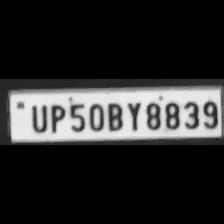0: (86, 100, 104, 132)
3: (182, 98, 200, 130)
5: (66, 100, 86, 132)
8: (142, 99, 162, 131), (162, 99, 180, 130)
9: (200, 97, 220, 129)
B: (104, 100, 124, 132)
P: (47, 101, 65, 133)
U: (28, 101, 48, 133)
Y: (124, 100, 142, 132)
